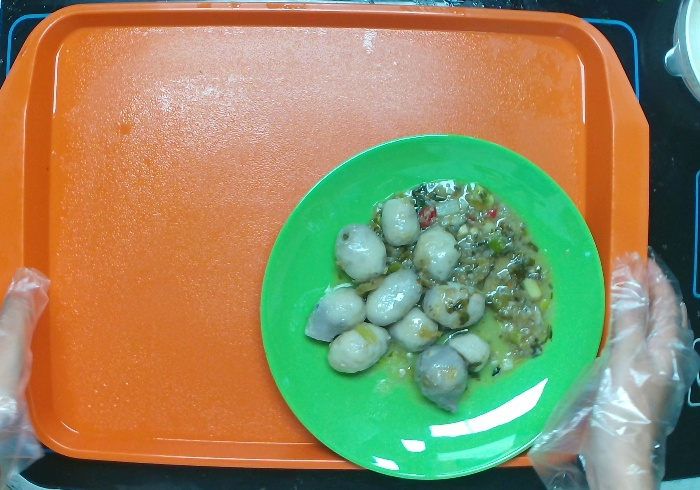HZYJPL-Lv_Se_Yuan_Pan: (241, 109, 613, 485)
